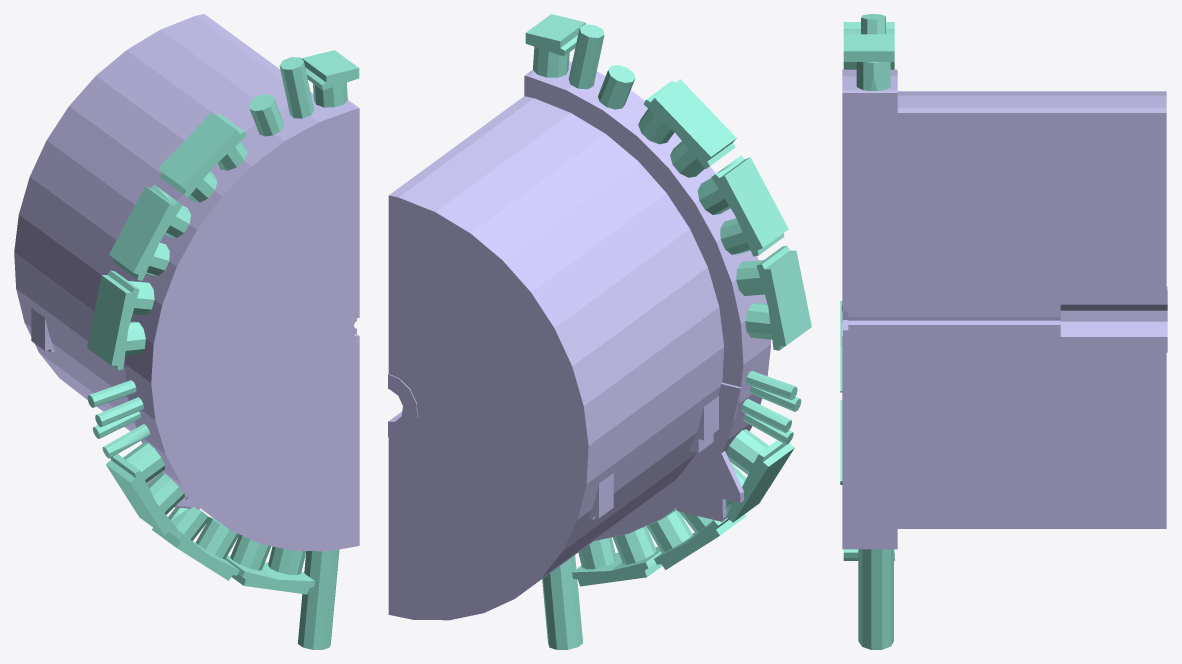
File: Lar-EMEC-SideA-cut2.glb
3 renders of one model, left to right at view 1: azimuth 30°, elevation 25°; view 2: azimuth 150°, elevation 25°; view 3: azimuth 270°, elevation 25°, orthographic. The views are drawn at different scales.
Visible parts, largest first — view 1: null.006; view 2: null.006; view 3: null.006.
Part boxes in pixels (x1,y1,x2,y2): null.006: [14, 14, 359, 649]; null.006: [388, 14, 811, 649]; null.006: [840, 14, 1167, 649].
Bounding box in the file's own units: 2.96 × 6.67 × 3.21.
